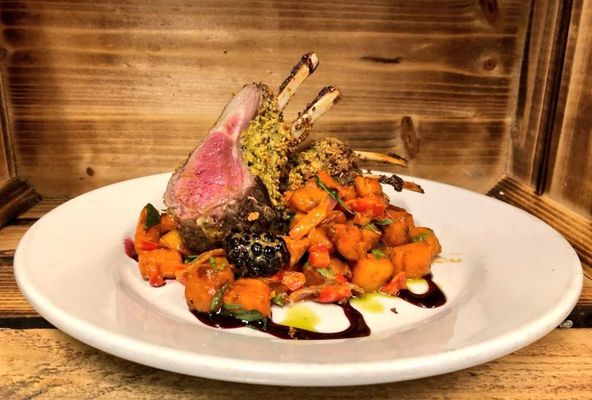burger: (487, 175, 592, 328), (487, 175, 592, 265)
